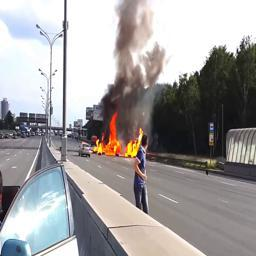fire: (95, 111, 143, 157)
